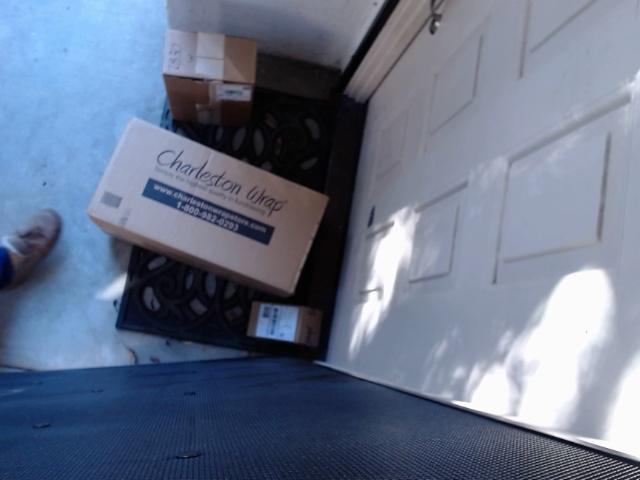box: (86, 116, 329, 299), (162, 29, 257, 127), (245, 302, 323, 352)
